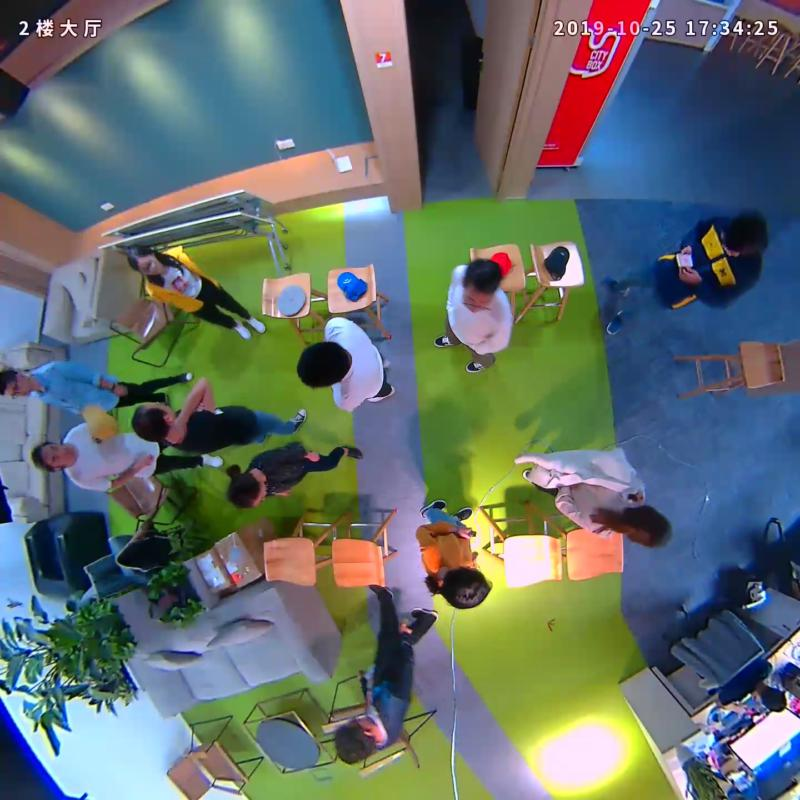head: (295, 340, 352, 391), (334, 715, 380, 766), (441, 565, 490, 609), (462, 258, 502, 311), (722, 211, 767, 258), (627, 504, 670, 548), (132, 402, 174, 442), (227, 472, 266, 509), (30, 440, 75, 470), (125, 245, 163, 277), (1, 369, 34, 397)
